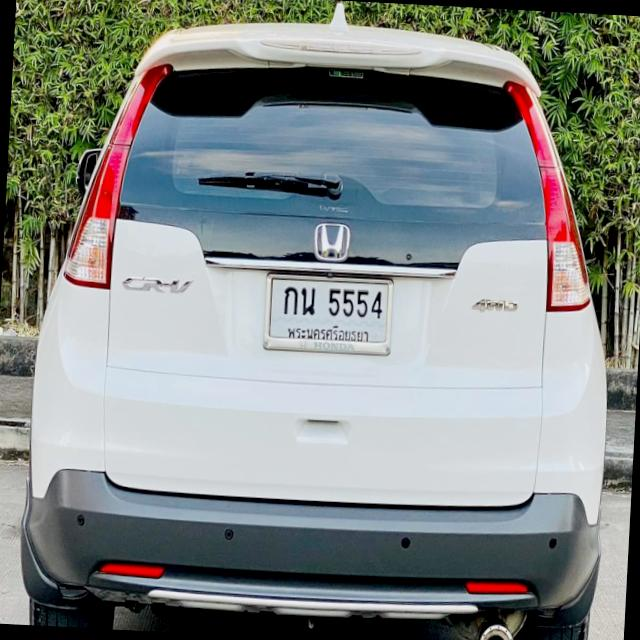license_plate: (262, 270, 395, 356)
